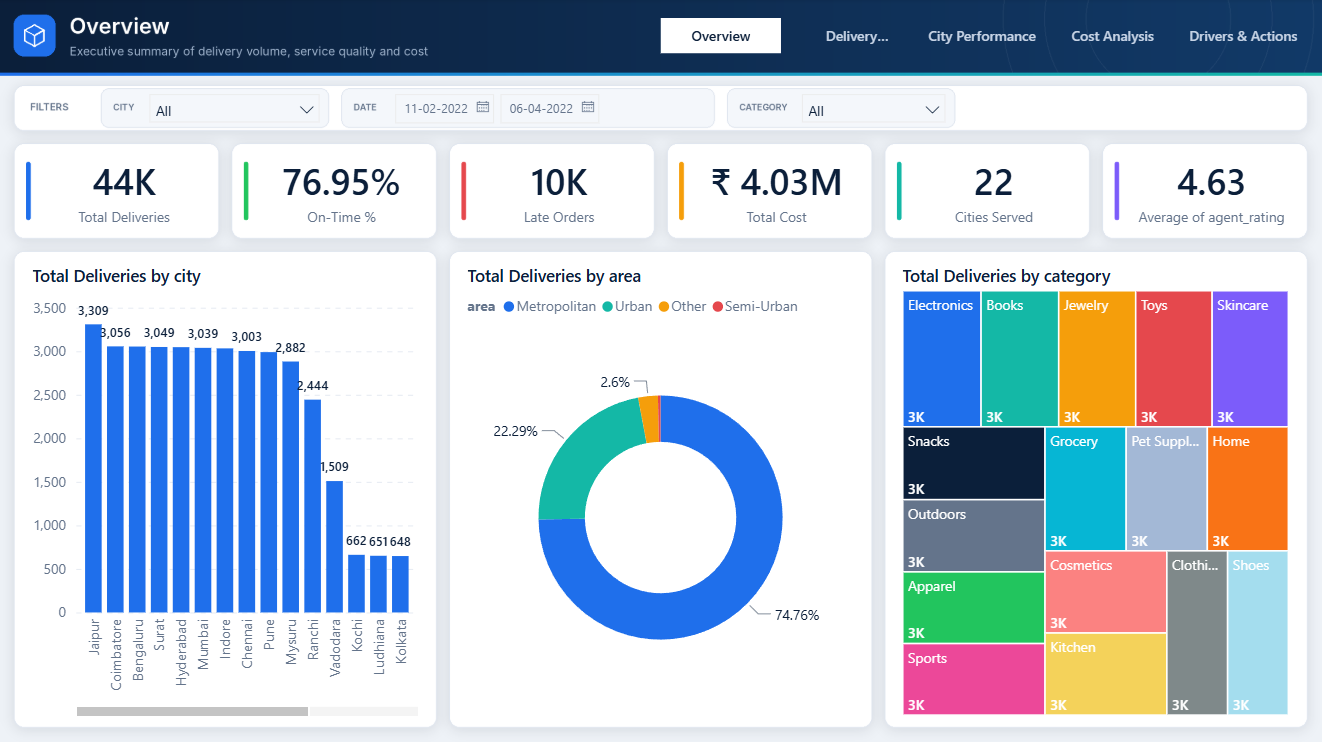

What the dashboard file says about the page in this screenshot:
{"tool":"powerbi","page":{"name":"Overview","canvas":[1280,720],"ordinal":0},"visuals":[{"type":"card","fields":{"Values":["vw_delivery_analysis.Total Deliveries"]},"box":[38,144,168,84],"z":1000},{"type":"card","fields":{"Values":["vw_delivery_analysis.On-Time %"]},"box":[248,144,168,84],"z":2000},{"type":"card","fields":{"Values":["vw_delivery_analysis.Late Orders"]},"box":[458,144,168,84],"z":3000},{"type":"card","fields":{"Values":["vw_delivery_analysis.Total Cost"]},"box":[668,144,168,84],"z":4000},{"type":"card","fields":{"Values":["vw_delivery_analysis.Cities Served"]},"box":[878,144,168,84],"z":5000},{"type":"card","fields":{"Values":["Avg(vw_delivery_analysis.agent_rating)"]},"box":[1088,144,168,84],"z":6000},{"type":"clusteredColumnChart","fields":{"Category":["vw_delivery_analysis.city"],"Y":["vw_delivery_analysis.Total Deliveries"]},"box":[24,250,392,448],"z":7000},{"type":"donutChart","fields":{"Y":["vw_delivery_analysis.Total Deliveries"],"Category":["vw_delivery_analysis.area"]},"box":[444,250,392,448],"z":8000},{"type":"treemap","fields":{"Group":["vw_delivery_analysis.category"],"Values":["vw_delivery_analysis.Total Deliveries"]},"box":[864,250,392,448],"z":9000},{"type":"slicer","fields":{"Values":["vw_delivery_analysis.city"]},"box":[142,88,174,36],"z":10000},{"type":"slicer","fields":{"Values":["vw_delivery_analysis.order_date"]},"box":[376,88,312,36],"z":11000},{"type":"slicer","fields":{"Values":["vw_delivery_analysis.category"]},"box":[772,88,148,36],"z":12000},{"type":"pageNavigator","box":[640,19,624,34],"z":13000}]}

Visuals, with their boxes on the page's 1280x720 design canvas (x1, y1, x2, y2). These are canvas units, not pixel positions in the 1322x742 screenshot, which may show the page scaled, cropped or inside an application window:
card - vw_delivery_analysis.Total Deliveries: {"x1": 38, "y1": 144, "x2": 206, "y2": 228}
card - vw_delivery_analysis.On-Time %: {"x1": 248, "y1": 144, "x2": 416, "y2": 228}
card - vw_delivery_analysis.Late Orders: {"x1": 458, "y1": 144, "x2": 626, "y2": 228}
card - vw_delivery_analysis.Total Cost: {"x1": 668, "y1": 144, "x2": 836, "y2": 228}
card - vw_delivery_analysis.Cities Served: {"x1": 878, "y1": 144, "x2": 1046, "y2": 228}
card - Avg(vw_delivery_analysis.agent_rating): {"x1": 1088, "y1": 144, "x2": 1256, "y2": 228}
clusteredColumnChart - vw_delivery_analysis.city x vw_delivery_analysis.Total Deliveries: {"x1": 24, "y1": 250, "x2": 416, "y2": 698}
donutChart - vw_delivery_analysis.Total Deliveries x vw_delivery_analysis.area: {"x1": 444, "y1": 250, "x2": 836, "y2": 698}
treemap - vw_delivery_analysis.category x vw_delivery_analysis.Total Deliveries: {"x1": 864, "y1": 250, "x2": 1256, "y2": 698}
slicer - vw_delivery_analysis.city: {"x1": 142, "y1": 88, "x2": 316, "y2": 124}
slicer - vw_delivery_analysis.order_date: {"x1": 376, "y1": 88, "x2": 688, "y2": 124}
slicer - vw_delivery_analysis.category: {"x1": 772, "y1": 88, "x2": 920, "y2": 124}
pageNavigator: {"x1": 640, "y1": 19, "x2": 1264, "y2": 53}
